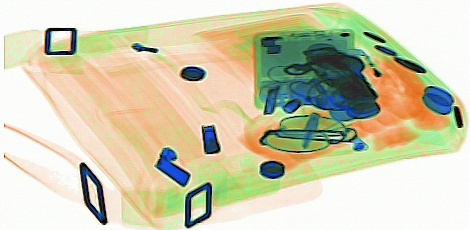lighter: (347, 46, 406, 105)
